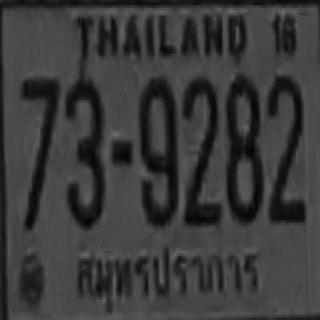N02: (181, 76, 223, 228), (267, 73, 308, 226)
N03: (64, 77, 106, 232)
N07: (19, 74, 59, 228)
N08: (224, 73, 265, 227)
N09: (138, 74, 179, 230)
P57: (73, 233, 267, 309)
